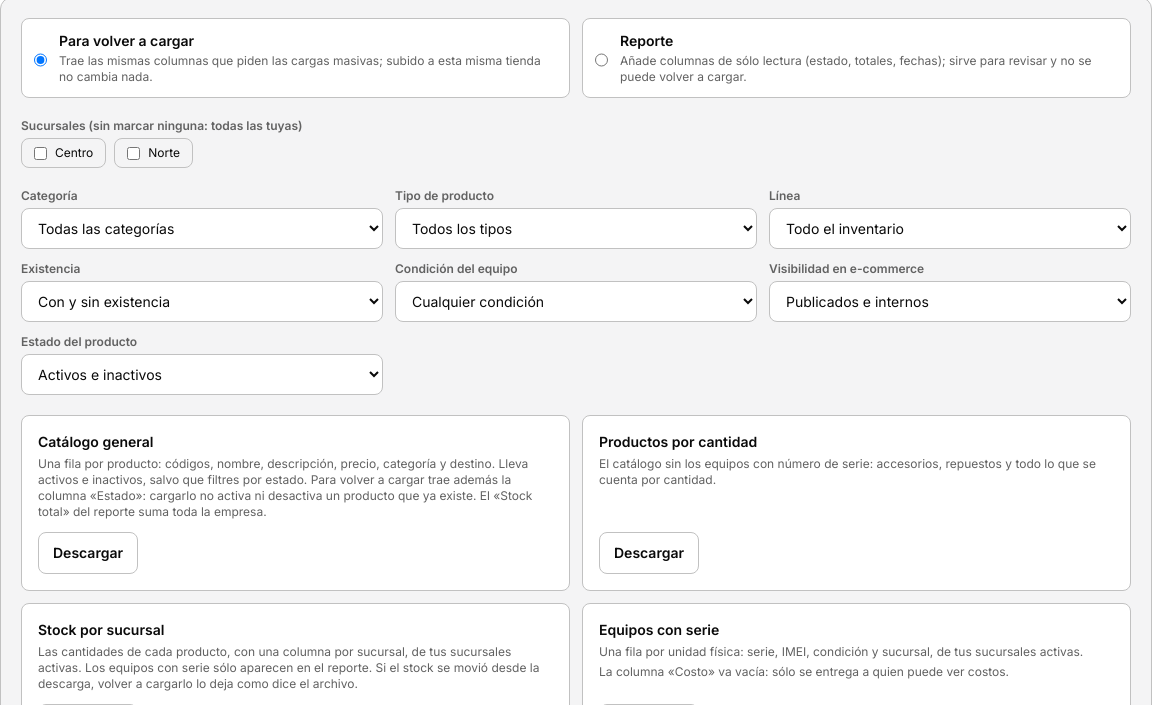
Test case: los filtros › pedir «Inactivos» vale en todas las descargas: ninguna tarjeta dice que el filtro no aplica
This screenshot has width=1152, height=705.
Select "Inactivos" in the dropdown labelled "Estado del producto": (202, 374) [21,354,383,395]
(page scrolled)
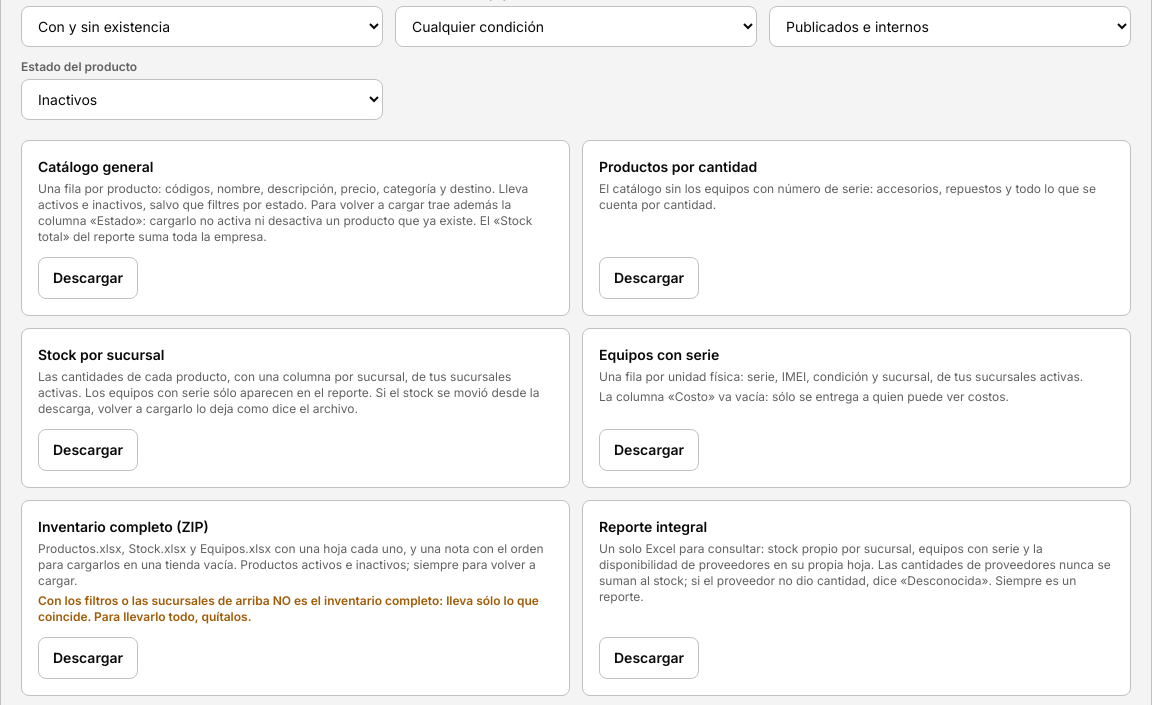
Now the message shows "NO es el inventario completo", box [38,593,539,624]
